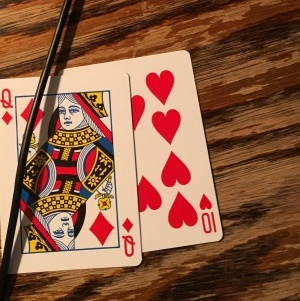card: (129, 49, 223, 252)
